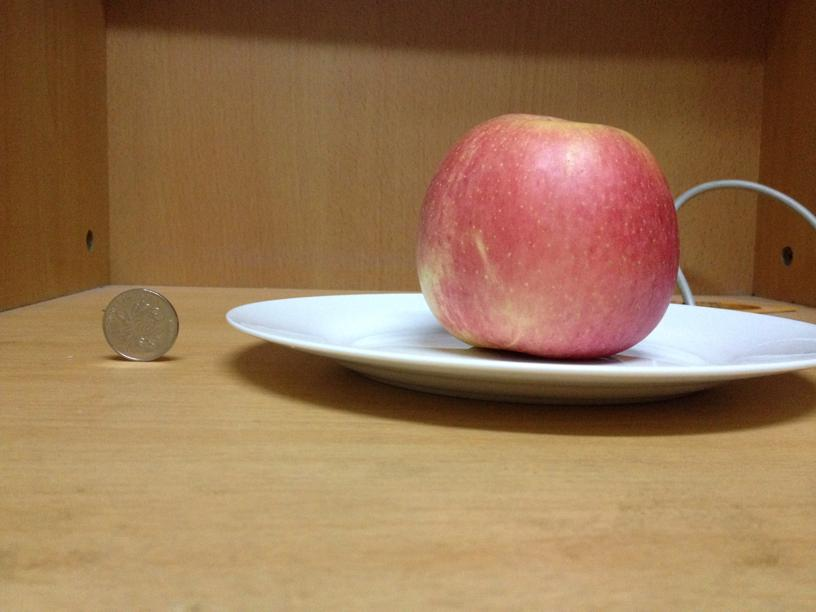apple: (413, 110, 679, 358)
coin: (102, 287, 179, 360)
